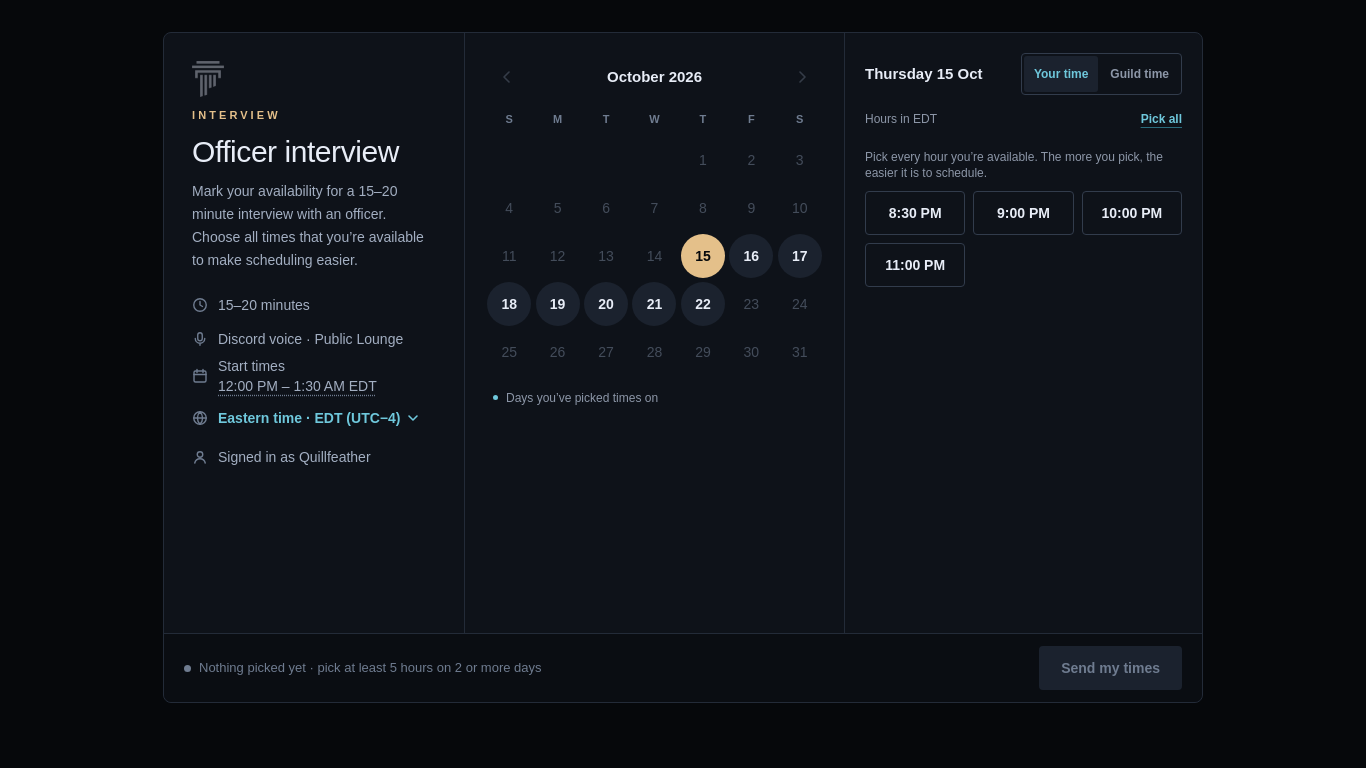
Scenario: sending times › shows the server’s words when it refuses the times, until the picks change
Click the button "Pick all" at (1161, 119), box 1141,97 -> 1182,141
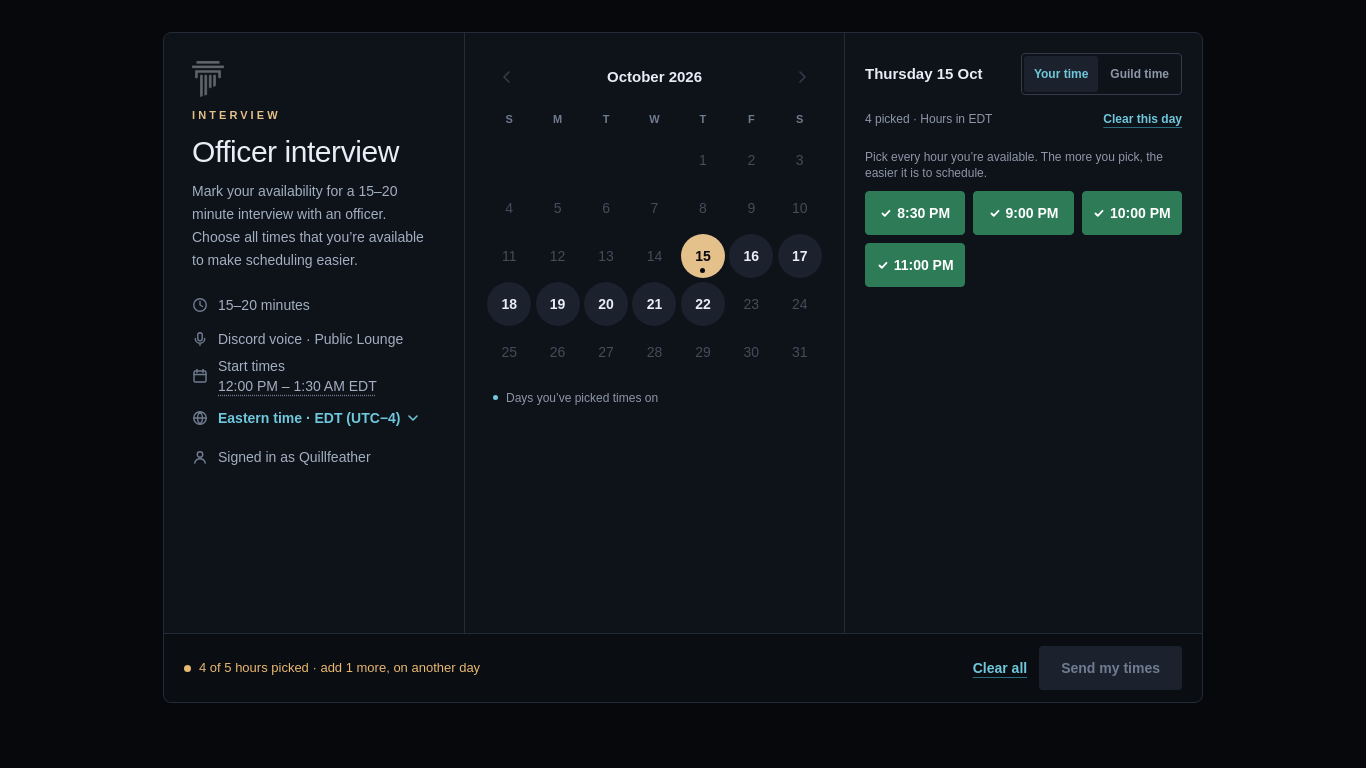
Click the button "17" at (800, 256), box 778,234 -> 822,278
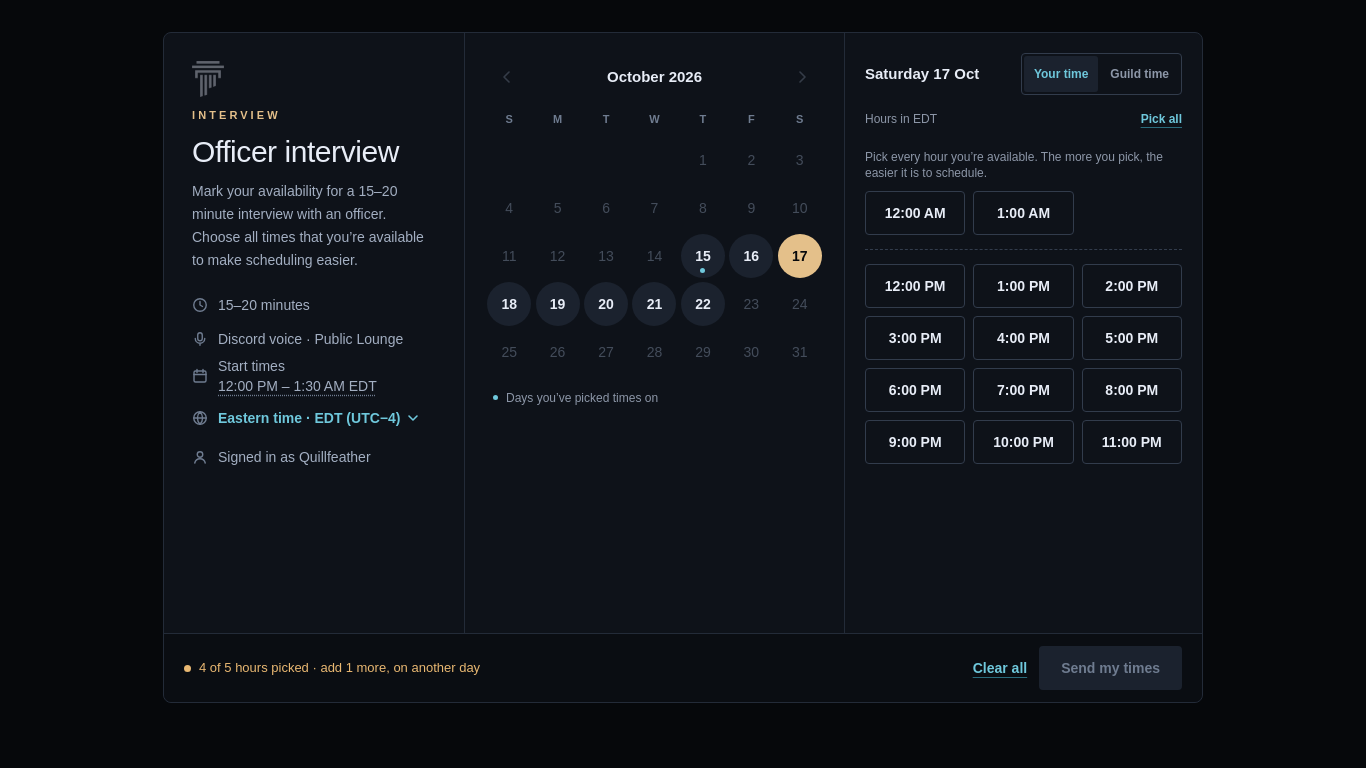
Click the button "12:00 AM" at (915, 213), box 865,191 -> 965,235
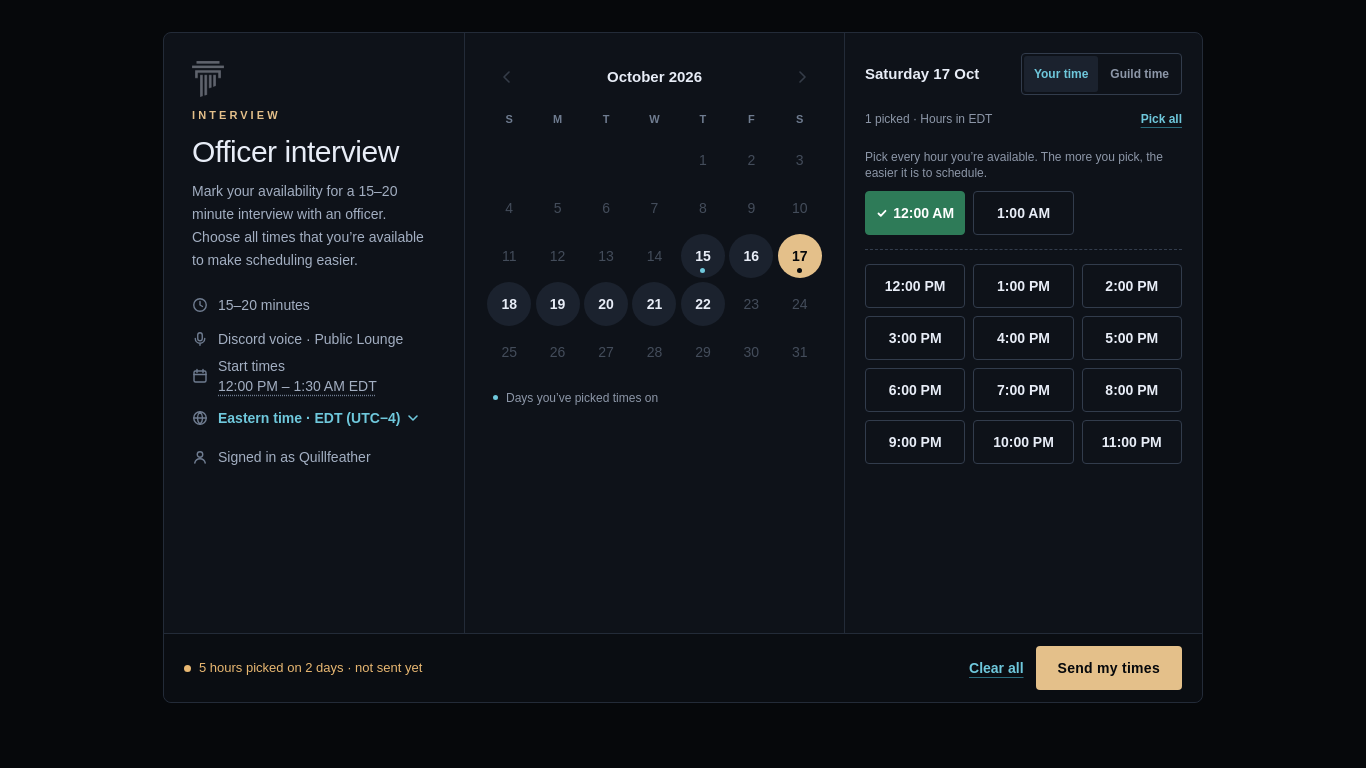
Click the button "Send my times" at (1109, 668), box 1036,646 -> 1182,690
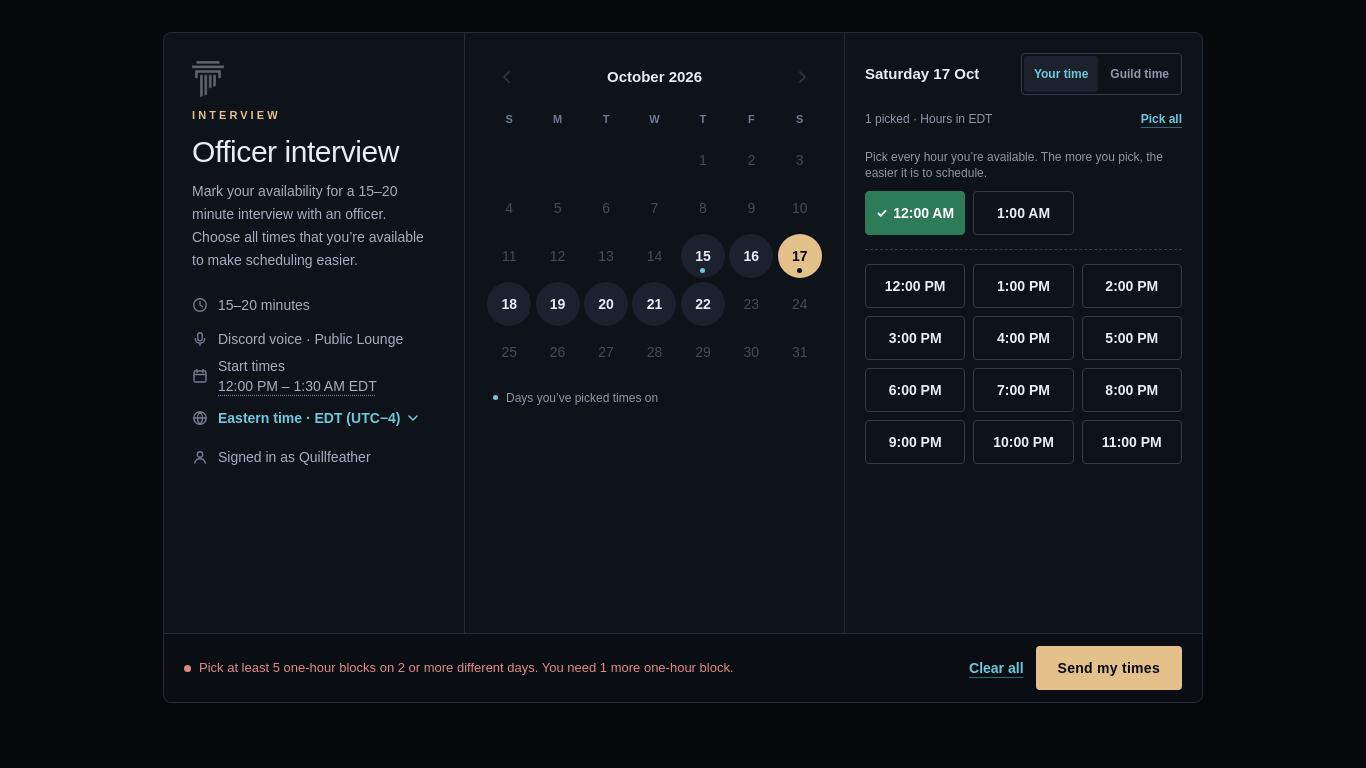
Check: the message shows "Pick at least 5 one-hour blocks on 2 or more different days. You need 1 more one-hour block.", box 199,660 -> 734,675
Click the button "12:00 AM" at (915, 213), box 865,191 -> 965,235
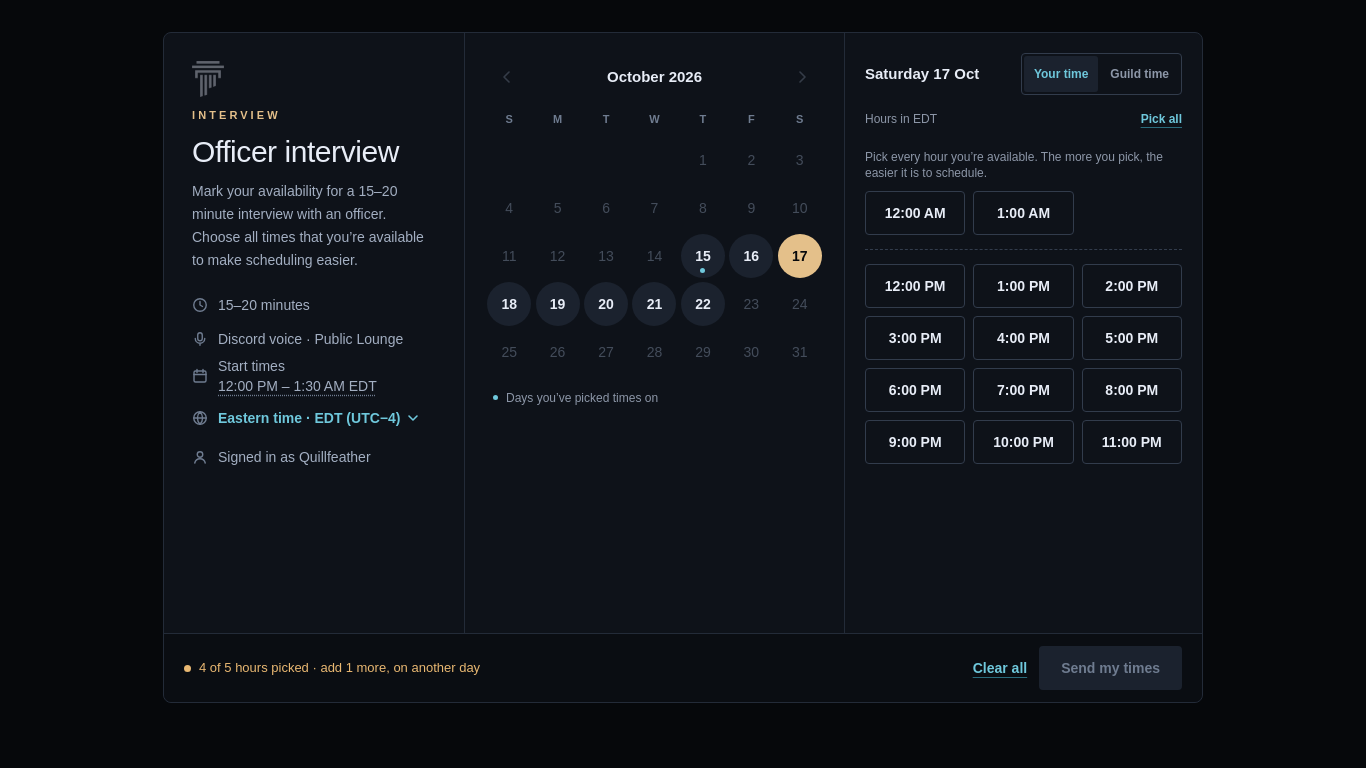
Check: the message "4 of 5 hours picked · add 1 more, on another day" is shown, box 199,658 -> 480,678
